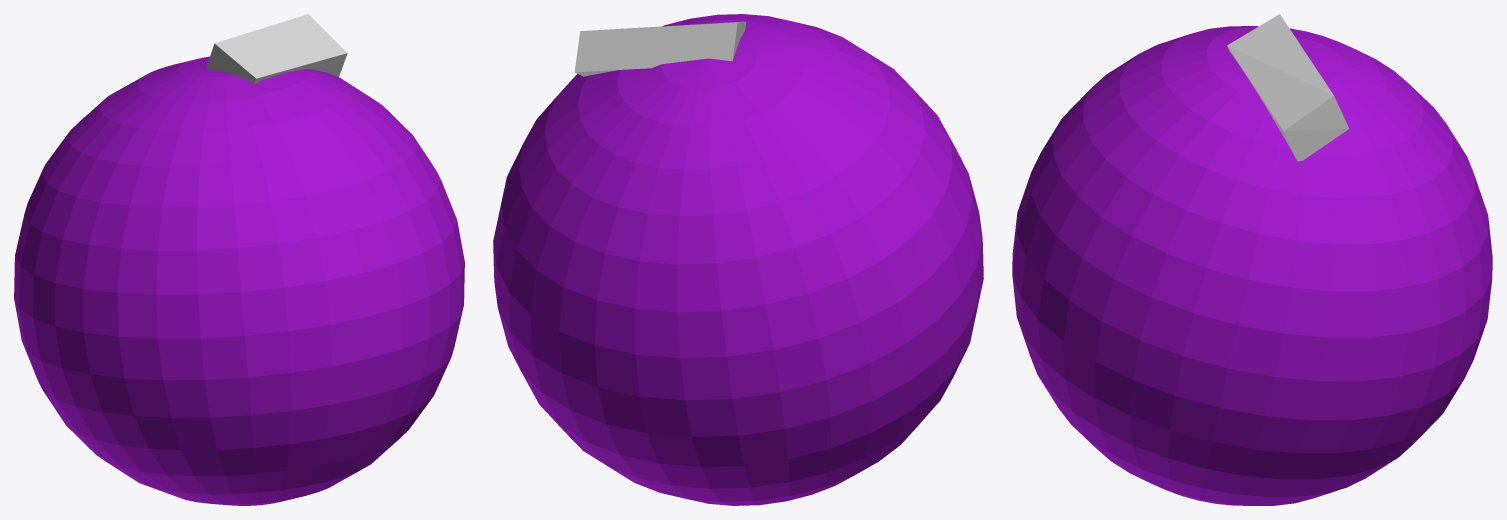
3 views of the same model, side by side, from view 1: azimuth 30°, elevation 25°; view 2: azimuth 150°, elevation 25°; view 3: azimuth 270°, elevation 25° (orthographic). The views are drawn at different scales.
Visible parts, largest first — view 1: 球, Cube; view 2: 球, Cube; view 3: 球, Cube.
Part boxes in pixels (x1,y1,x2,y2): 球: (14, 56, 464, 505); Cube: (206, 14, 347, 83); 球: (493, 14, 983, 505); Cube: (574, 21, 745, 76); 球: (1012, 26, 1492, 505); Cube: (1227, 14, 1349, 161).
Size of the model in its own units: 6.31 by 6.31 by 6.74.
